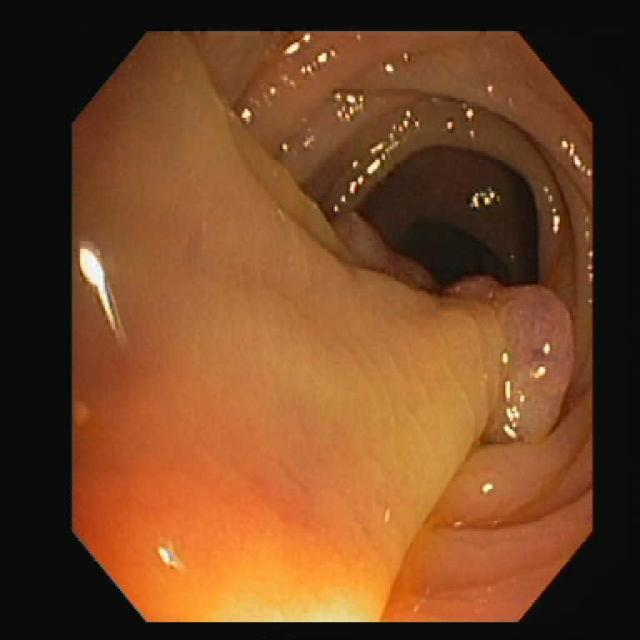tumor: (495, 284, 572, 438)
